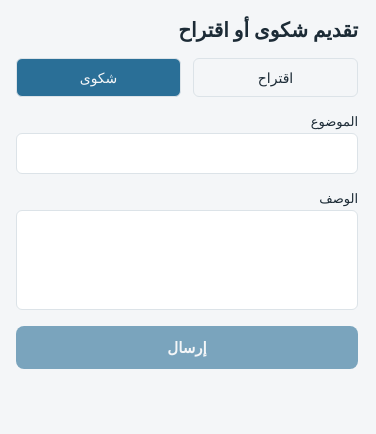
Test: ComplaintSubmitScreen › shows an ErrorBanner and preserves entered values when submission fails
Type "a" into the field with test id "subject-input". click: (187, 154)
box: [16,133,358,174]
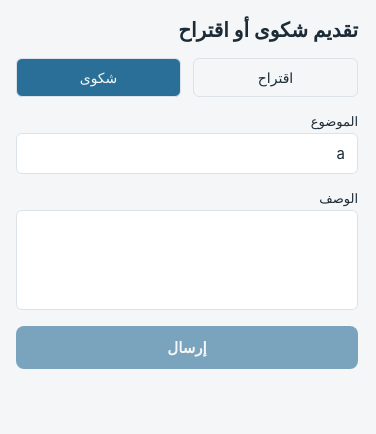
Type "b" into the text box with test id "description-input". click: (187, 260)
box: [16,210,358,310]
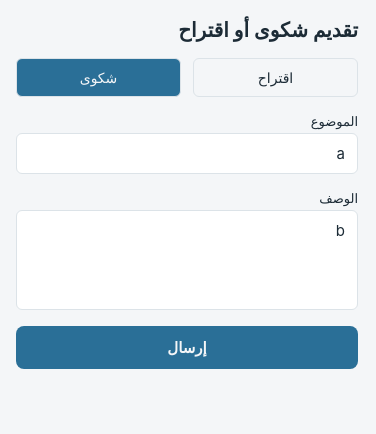
Click the text "إرسال". click: (187, 348)
box: [167,338,207,357]
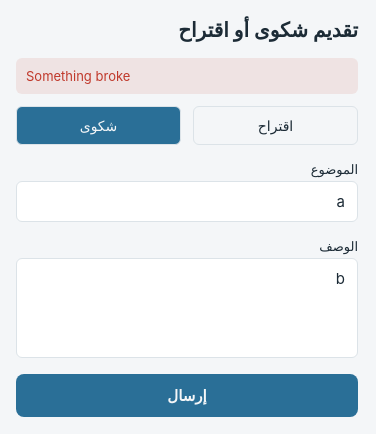
Result: the text "Something broke" is shown at [26,68,130,84]
